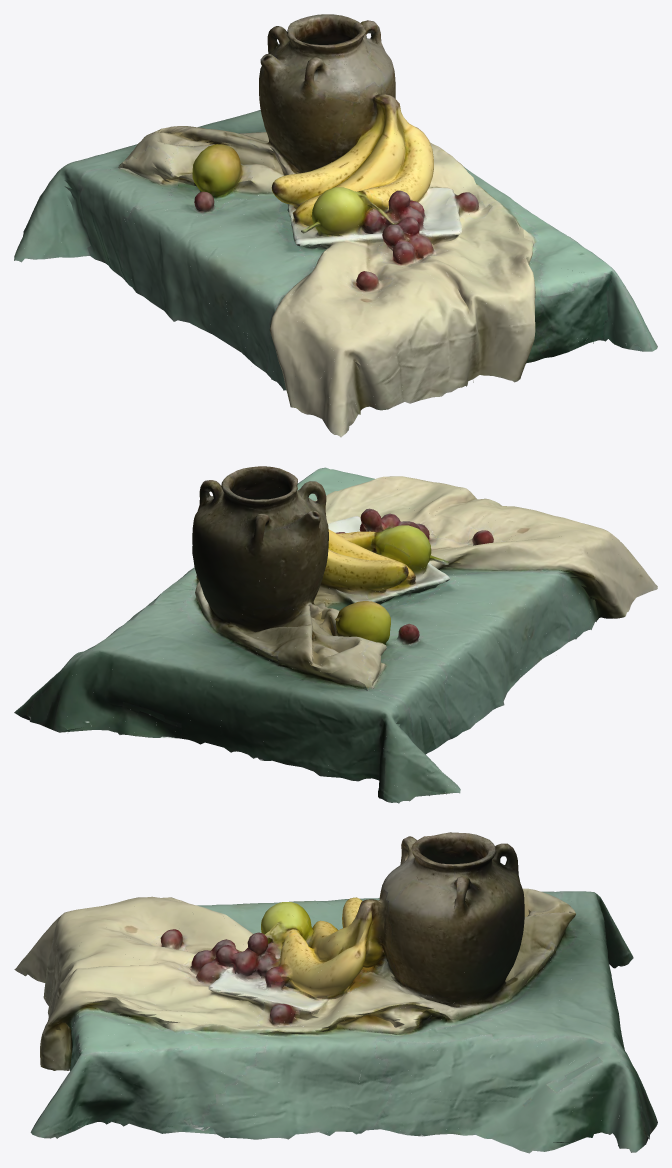
Rendered from 静物_其它_陶罐水果组合06_opt.glb.
3 views of the same model, one above another, from view 1: azimuth 30°, elevation 25°; view 2: azimuth 150°, elevation 25°; view 3: azimuth 270°, elevation 25° (orthographic). The views are drawn at different scales.
Visible parts, largest first — view 1: defaultMat, defaultMat_1; view 2: defaultMat, defaultMat_1; view 3: defaultMat, defaultMat_1.
Part boxes in pixels (left/top/right/bottom): defaultMat: left=14, top=14, right=657, bottom=437; defaultMat_1: left=17, top=20, right=643, bottom=434; defaultMat: left=14, top=466, right=657, bottom=803; defaultMat_1: left=22, top=473, right=657, bottom=802; defaultMat: left=14, top=832, right=657, bottom=1153; defaultMat_1: left=21, top=835, right=649, bottom=1142.
Size of the model in its own units: 1.25 by 0.6 by 1.57.
Materials: 1 (1 with a texture image).
